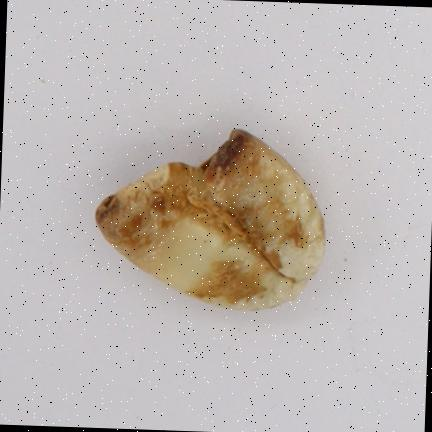cut: (96, 129, 325, 309)
